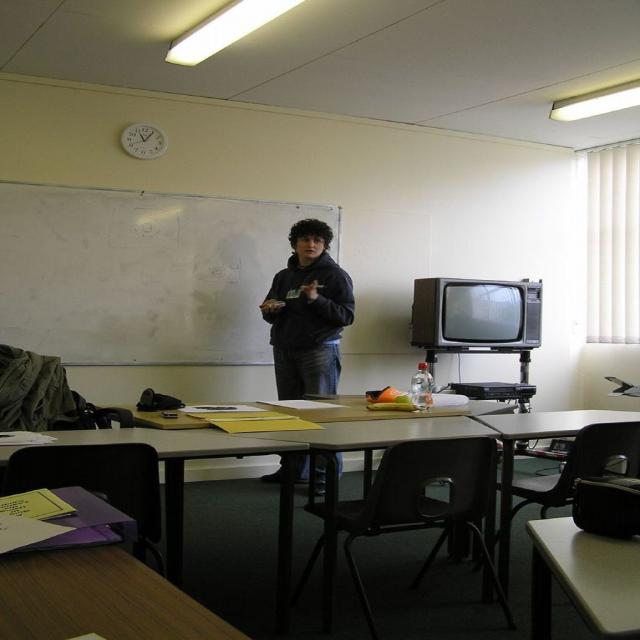chair: (287, 436, 515, 639), (0, 444, 160, 569)
desk: (4, 408, 638, 638)
person: (258, 218, 355, 404)
tv: (410, 278, 543, 350)
